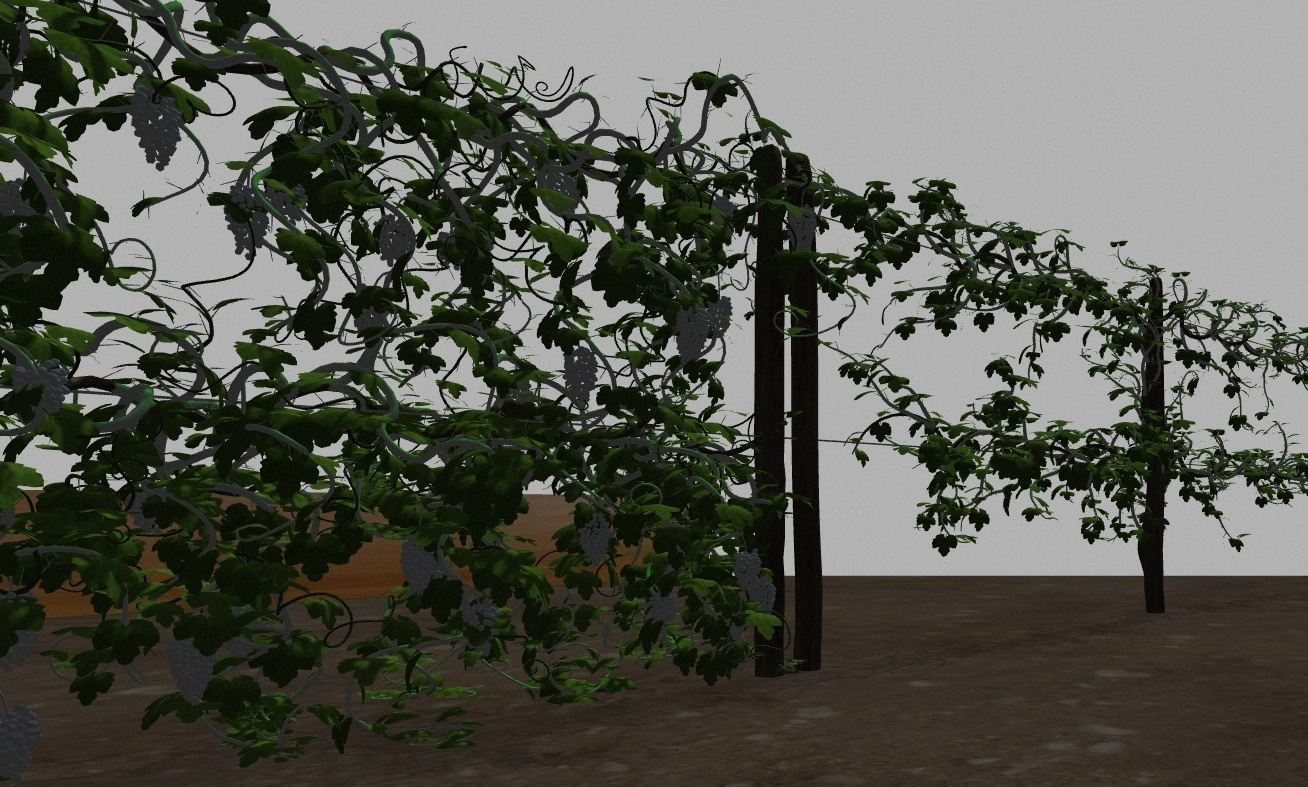grape: (131, 91, 181, 170), (13, 359, 68, 426), (170, 632, 215, 706), (3, 703, 43, 783), (226, 184, 267, 259), (399, 539, 437, 600), (675, 305, 709, 364), (564, 347, 598, 403), (376, 217, 413, 266), (578, 513, 612, 566), (268, 182, 308, 226), (785, 207, 817, 251), (461, 597, 499, 630), (749, 577, 777, 616), (735, 548, 760, 590), (705, 299, 734, 335), (648, 593, 677, 626)
